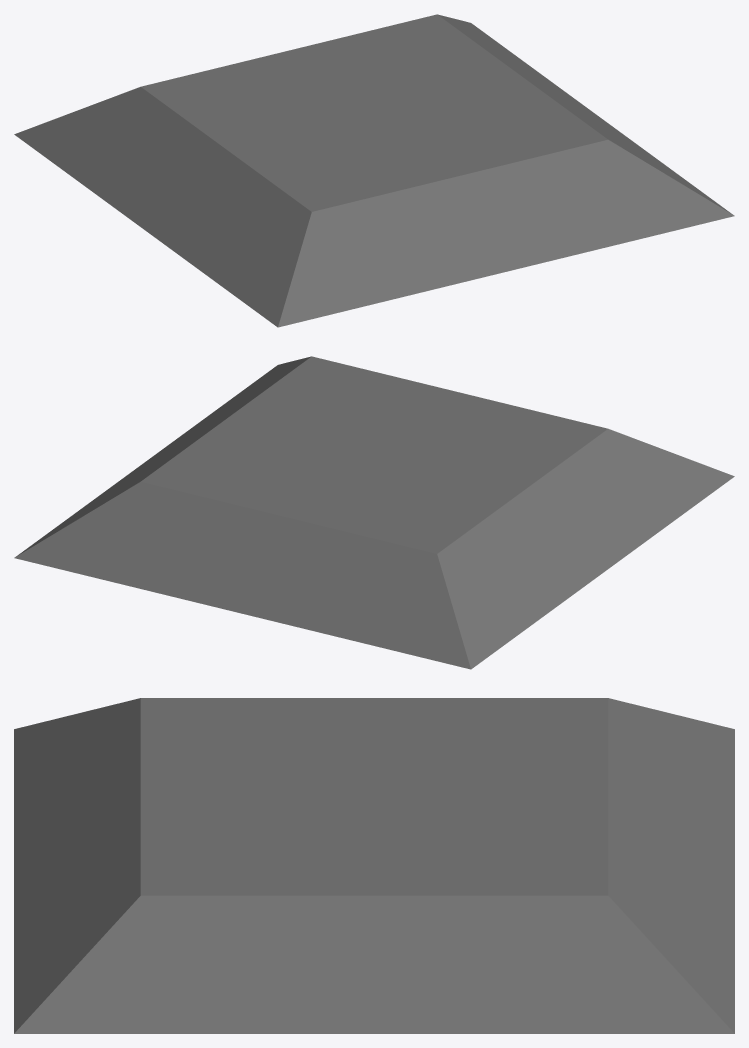
The model's file is Collider_Box.FBX.
3 renders of one model, top to bottom at view 1: azimuth 30°, elevation 25°; view 2: azimuth 150°, elevation 25°; view 3: azimuth 270°, elevation 25°, orthographic. The views are drawn at different scales.
Visible parts, largest first — view 1: Collider_Box; view 2: Collider_Box; view 3: Collider_Box.
Boxes of the visible parts, box(x1,y1,x2,y2) form: Collider_Box: box(14, 14, 734, 327); Collider_Box: box(14, 356, 734, 669); Collider_Box: box(14, 698, 734, 1033).
Bounding box in the file's own units: 154 × 20 × 154.
Materials: 1 (1 with a texture image).
